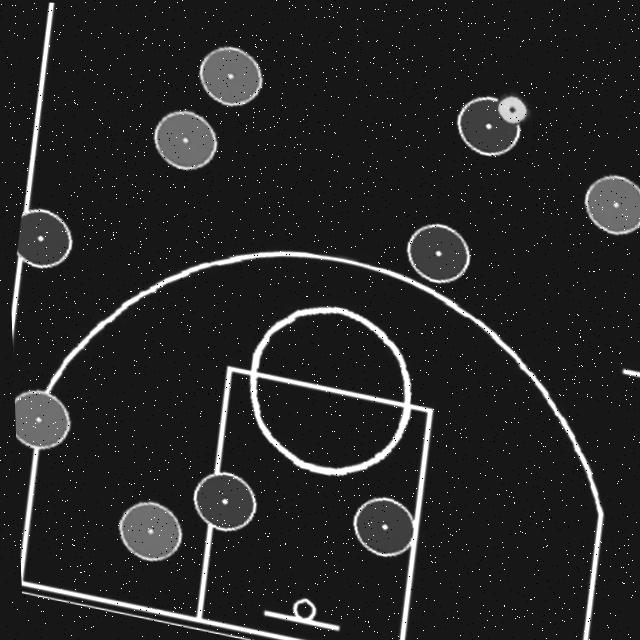Basketball: (496, 85, 529, 117)
Team_A: (189, 468, 252, 528), (348, 492, 411, 552), (404, 218, 467, 278), (456, 90, 519, 149), (14, 207, 70, 267)
Team_B: (198, 42, 261, 103), (152, 107, 216, 167), (114, 499, 177, 559), (582, 167, 640, 227), (12, 389, 66, 449)
